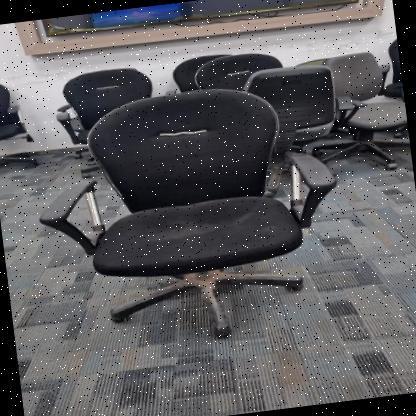chair: (25, 69, 350, 361), (236, 49, 346, 160)
